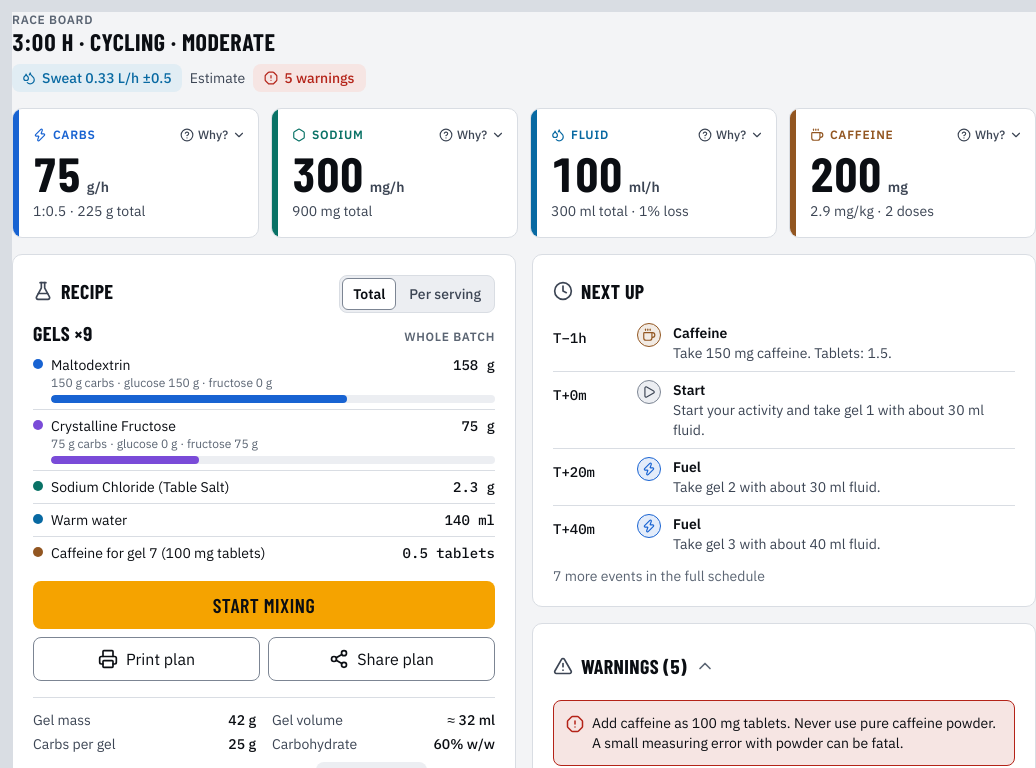
RaceBoard: warnings panel › lists every plan warning, danger first, open by default and collapsible
Click the button "Warnings (5)": [634, 666] box left=549, top=644, right=719, bottom=688
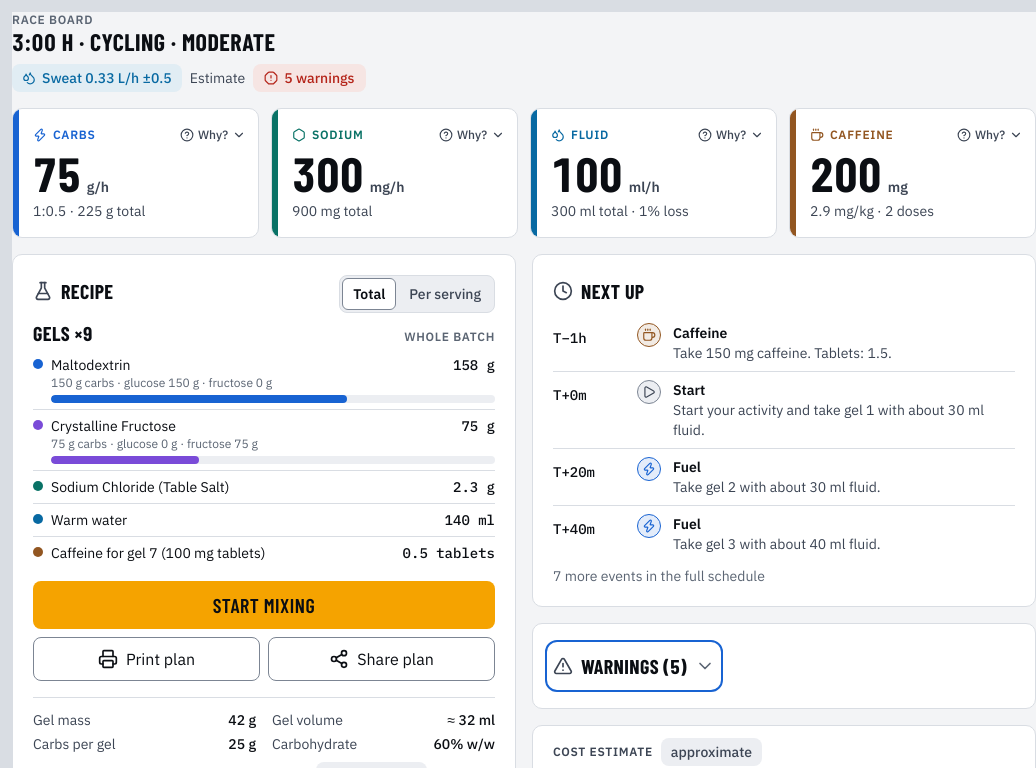
Result: the button "Warnings (5)" is collapsed at left=549, top=644, right=719, bottom=688
